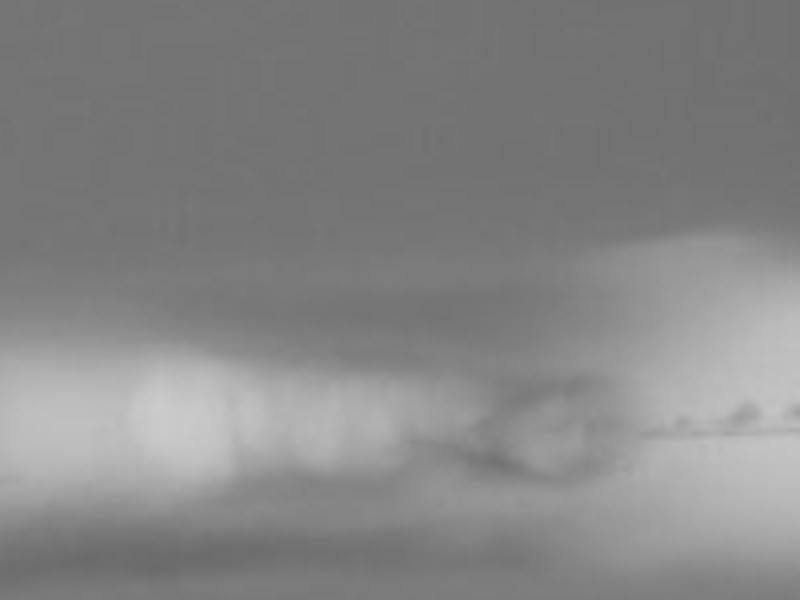defect: (723, 400, 759, 429), (671, 413, 691, 433), (787, 399, 800, 421)
